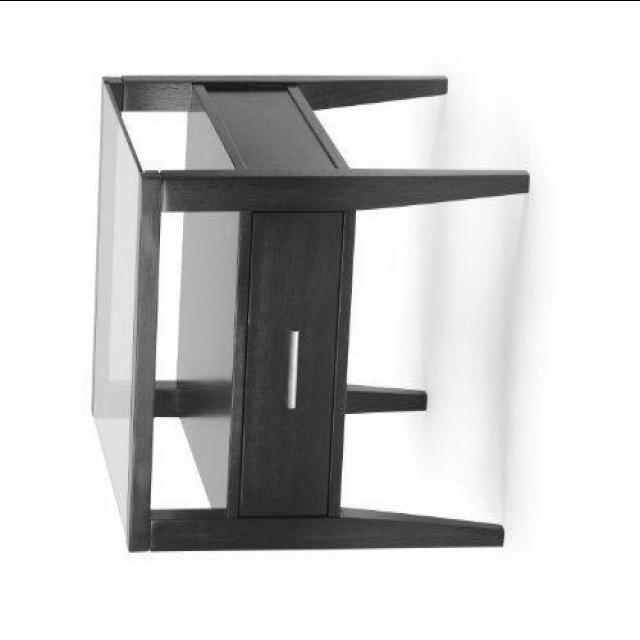table: (88, 74, 530, 552)
